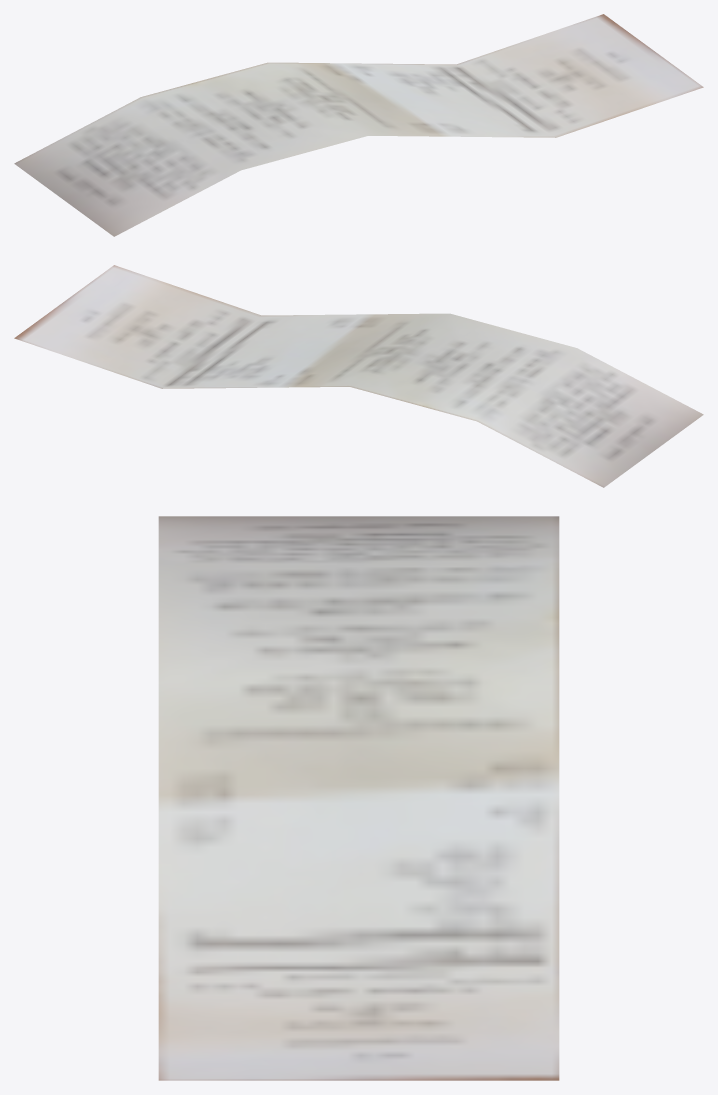
Rendered from receipt.FBX.
3 views of the same model, one above another, from view 1: azimuth 30°, elevation 25°; view 2: azimuth 150°, elevation 25°; view 3: azimuth 270°, elevation 25° (orthographic). The views are drawn at different scales.
Visible parts, largest first — view 1: receipt; view 2: receipt; view 3: receipt.
Boxes of the visible parts, <box> form: receipt: <box>14,14,703,236</box>; receipt: <box>14,265,703,487</box>; receipt: <box>158,516,559,1080</box>.
Bounding box in the file's own units: 24.33 × 1.89 × 7.16.
